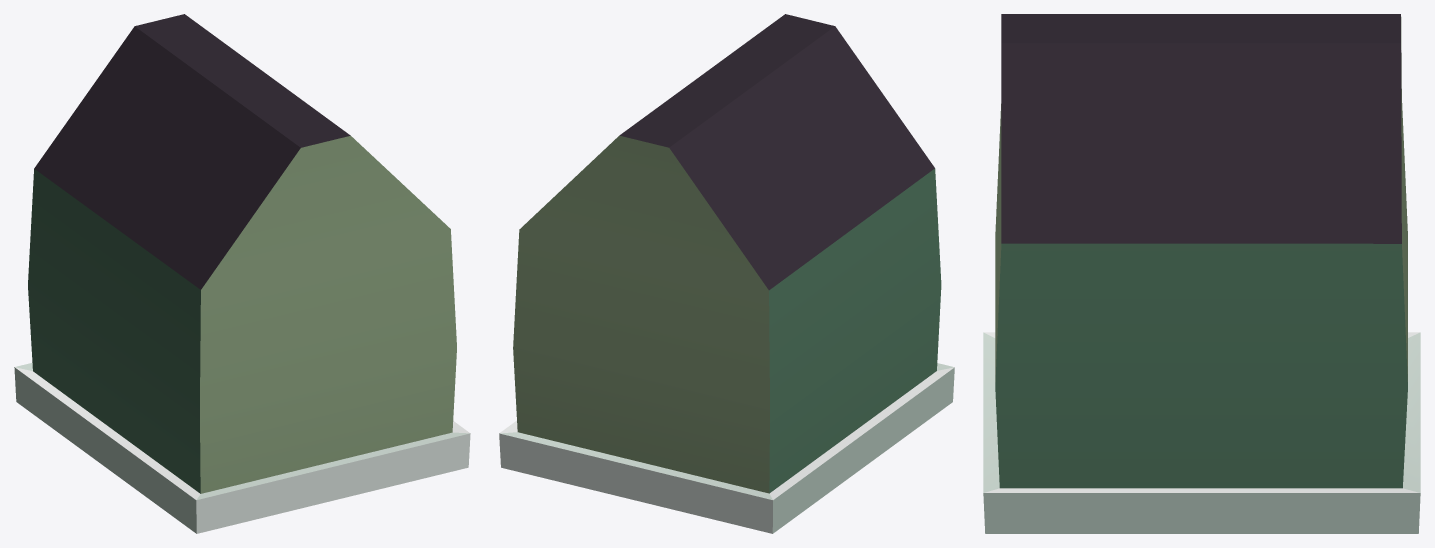
File: House01_Green_White.glb
The picture shows the model from 3 angles, left to right: view 1: azimuth 30°, elevation 25°; view 2: azimuth 150°, elevation 25°; view 3: azimuth 270°, elevation 25°; orthographic projection. The views are drawn at different scales.
Parts seen in each view (by area): view 1: House01_Green_White; view 2: House01_Green_White; view 3: House01_Green_White.
Boxes of the visible parts, left/top/right/bottom form: House01_Green_White: left=14, top=14, right=470, bottom=533; House01_Green_White: left=499, top=14, right=954, bottom=533; House01_Green_White: left=983, top=14, right=1420, bottom=533.
Bounding box in the file's own units: 2.04 × 2.51 × 2.34.
Materials: 1 (1 with a texture image).
